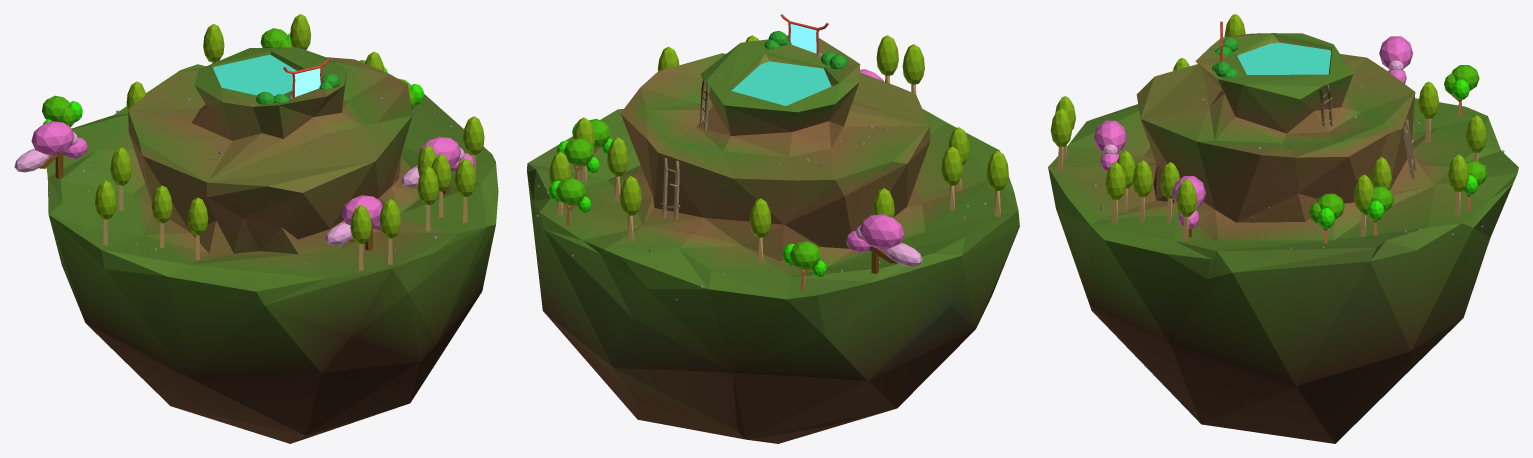
The picture shows the model from 3 angles, left to right: view 1: azimuth 30°, elevation 25°; view 2: azimuth 150°, elevation 25°; view 3: azimuth 270°, elevation 25°; orthographic projection. The views are drawn at different scales.
Visible parts, largest first — view 1: Island.005, Water.005, Tree3 - 2.040, Tree3 - 2.038, Tree3 - 2.039, Tree1 - 2.049, Tree2 - 2.059, Tree2 - 2.065, Tree2 - 2.062, Tree2 - 2.064, Tree2 - 2.057, Tree2 - 2.052 (+8 smaller); view 2: Island.005, Water.005, Tree3 - 2.040, Tree1 - 2.049, Tree1 - 2.048, Tree1 - 2.047, Tree2 - 2.062, Tree2 - 2.055, Tree2 - 2.063, Tree2 - 2.056, Tree2 - 2.054, Tree2 - 2.065 (+8 smaller); view 3: Island.005, Water.005, Tree3 - 2.038, Tree3 - 2.040, Tree1 - 2.049, Tree1 - 2.046, Tree2 - 2.059, Tree2 - 2.060, Tree2 - 2.057, Tree1 - 2.047, Tree2 - 2.053, Tree2 - 2.063 (+8 smaller).
Boxes of the visible parts, x1,y1,x2,y2 form: Island.005: (46, 47, 498, 443); Water.005: (213, 55, 296, 96); Tree3 - 2.040: (14, 121, 87, 178); Tree3 - 2.038: (325, 195, 382, 250); Tree3 - 2.039: (401, 136, 474, 193); Tree1 - 2.049: (42, 95, 82, 126); Tree2 - 2.059: (379, 199, 401, 264); Tree2 - 2.065: (350, 205, 371, 270); Tree2 - 2.062: (95, 180, 116, 245); Tree2 - 2.064: (417, 166, 438, 231); Tree2 - 2.057: (454, 158, 475, 222); Tree2 - 2.052: (110, 147, 131, 211); Island.005: (527, 38, 1019, 443); Water.005: (731, 61, 831, 105); Tree3 - 2.040: (845, 214, 922, 273); Tree1 - 2.049: (782, 241, 826, 290); Tree1 - 2.048: (549, 177, 591, 225); Tree1 - 2.047: (556, 138, 599, 180); Tree2 - 2.062: (986, 150, 1008, 216); Tree2 - 2.055: (619, 175, 641, 241); Tree2 - 2.063: (749, 198, 771, 263); Tree2 - 2.056: (941, 146, 962, 210); Tree2 - 2.054: (607, 137, 628, 201); Tree2 - 2.065: (902, 44, 924, 94); Island.005: (1048, 33, 1518, 443); Water.005: (1237, 42, 1331, 74); Tree3 - 2.038: (1094, 120, 1127, 171); Tree3 - 2.040: (1379, 36, 1413, 83); Tree1 - 2.049: (1444, 65, 1479, 115); Tree1 - 2.046: (1309, 193, 1344, 243); Tree2 - 2.059: (1050, 108, 1072, 171); Tree2 - 2.060: (1176, 179, 1197, 241); Tree2 - 2.057: (1105, 162, 1126, 224); Tree1 - 2.047: (1362, 186, 1393, 235); Tree2 - 2.053: (1448, 154, 1468, 215); Tree2 - 2.063: (1418, 81, 1439, 142).
Bounding box in the file's own units: 41.96 × 39.87 × 43.73.
